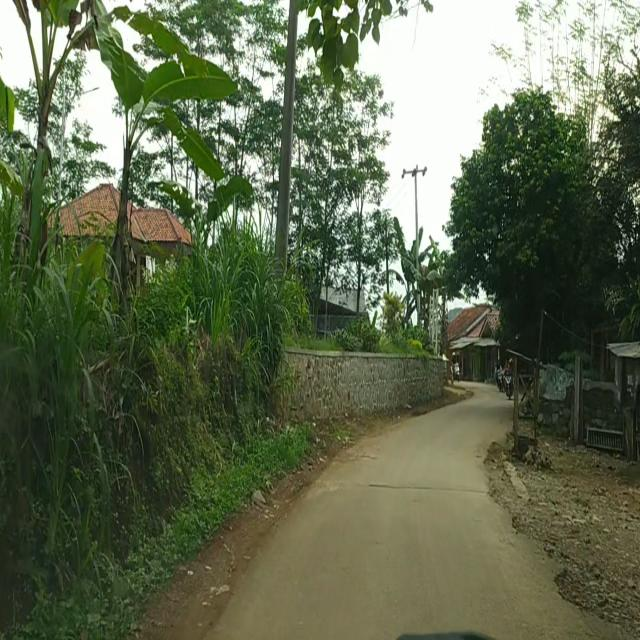Sewer Cover: (358, 480, 490, 495)
